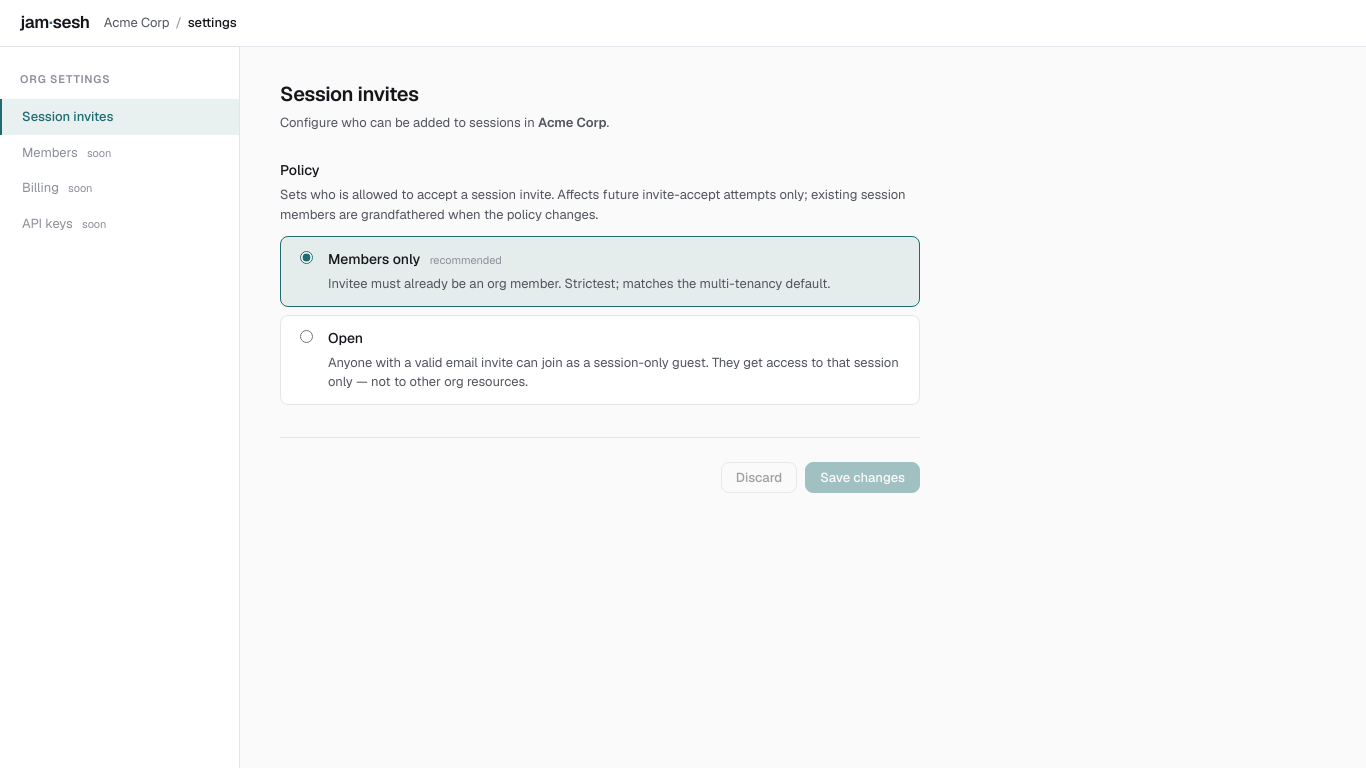
OrgSettings › Save 403 error shows "only org creators" message in banner
The width and height of the screenshot is (1366, 768).
Check: the heading "Session invites" is shown, box [280,80,419,106]
What coordinates should you click on to do the following:
click the radio button labelled "Open"
I would click on:
 (306, 336)
Its box is [300,330,313,342].
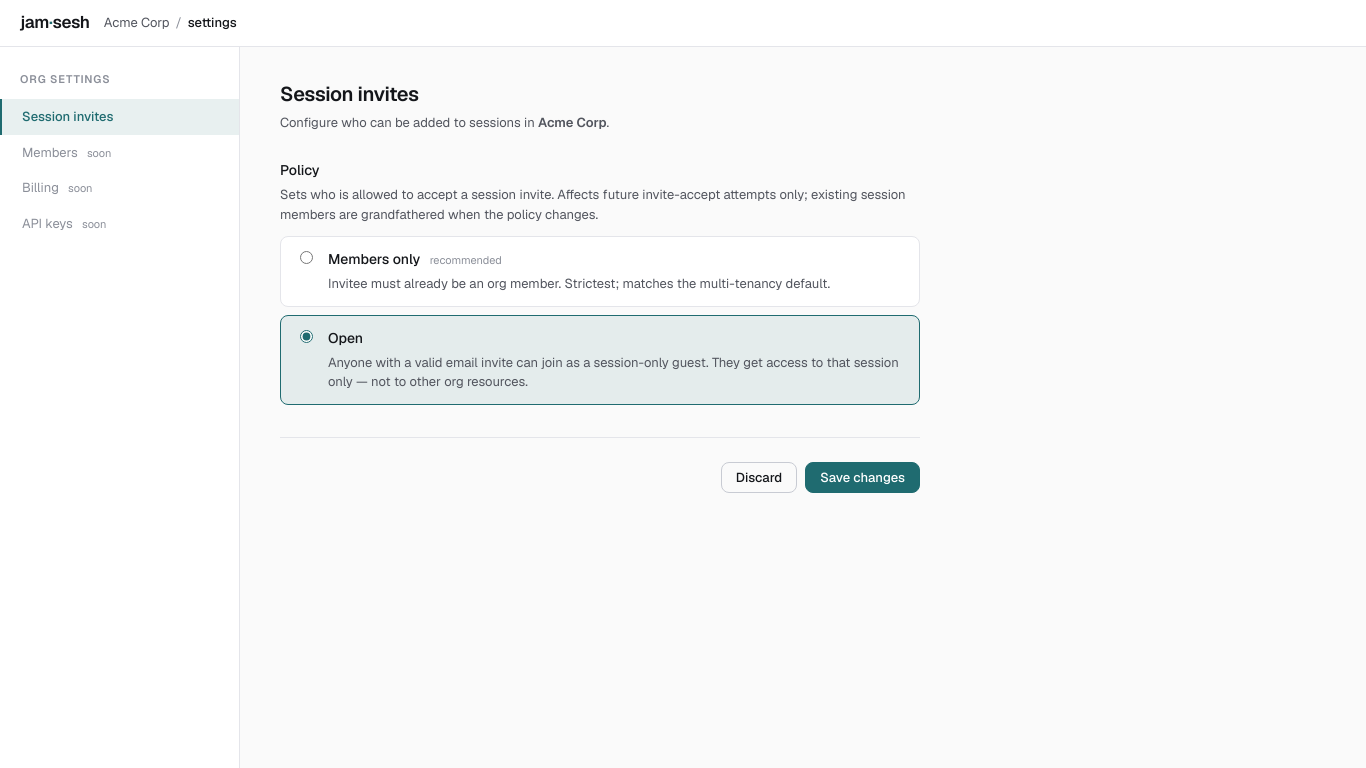
What coordinates should you click on to do the following:
click the button "Save changes"
I would click on:
 (863, 477)
Its box is [805,462,920,492].
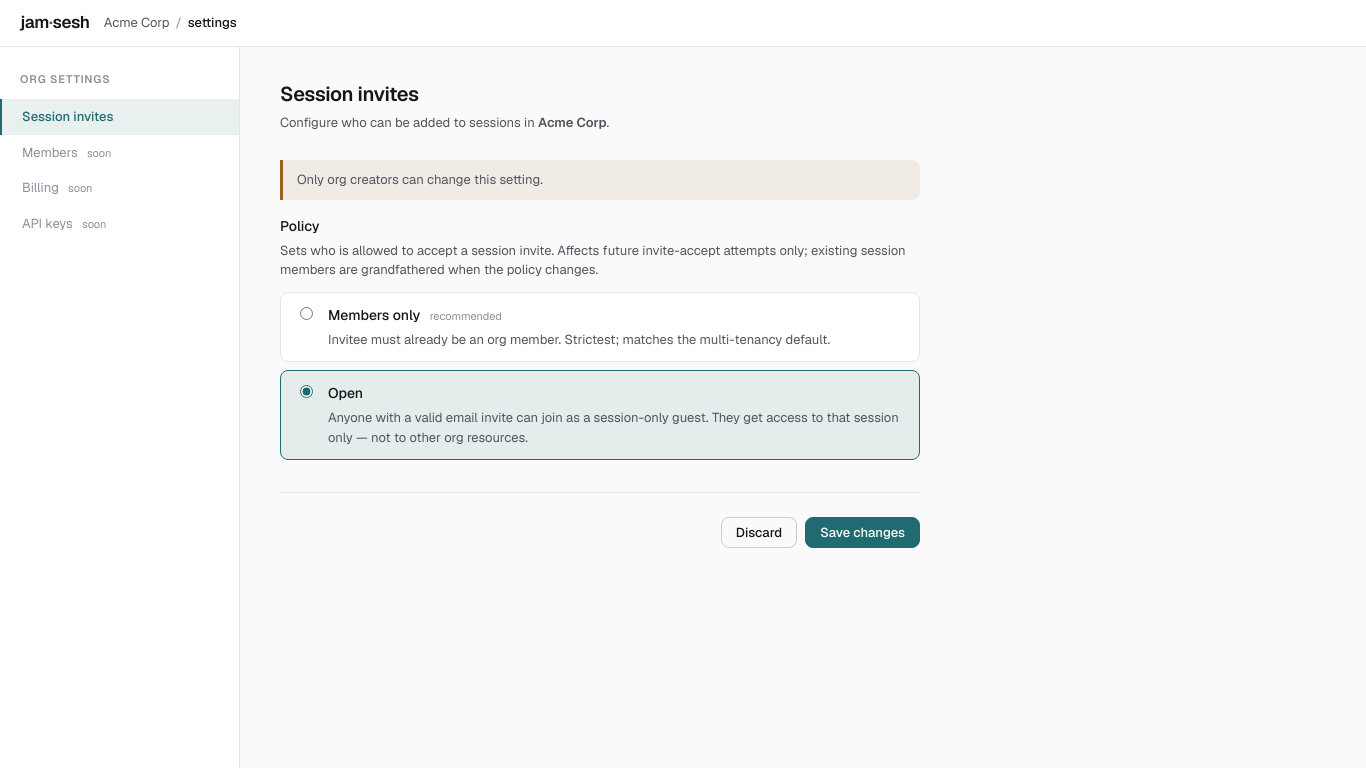
Check: the text "Only org creators can change this setting." is shown, box [280,160,920,200]
